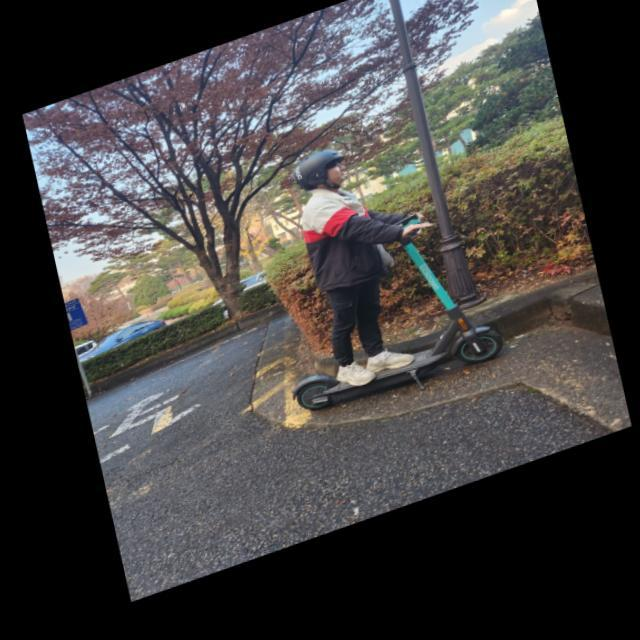Helmet: (291, 146, 346, 190)
